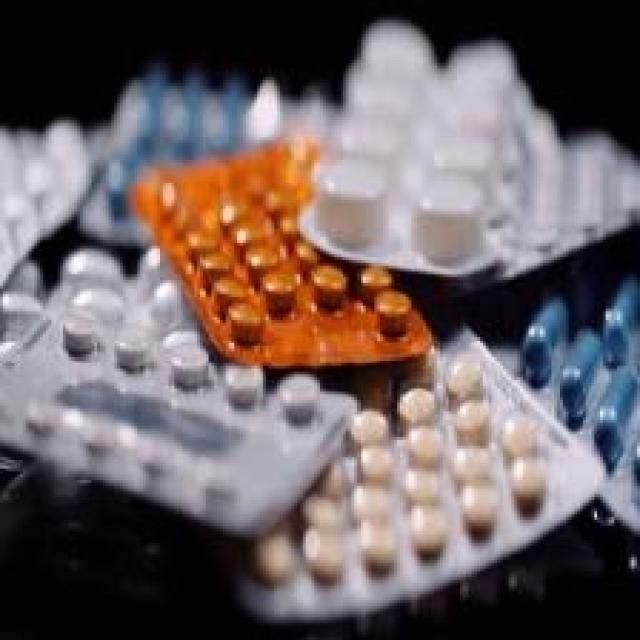Medicine: (0, 9, 640, 630)
